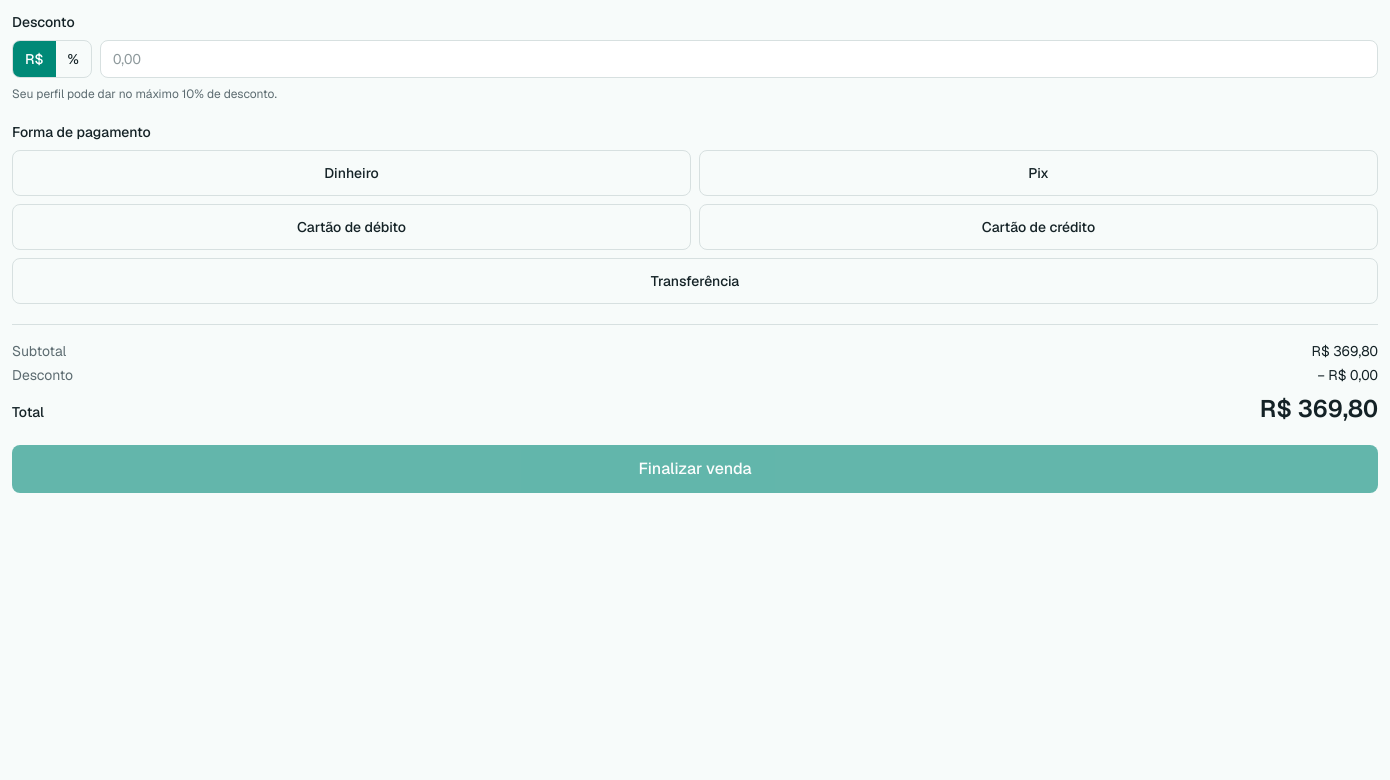
Test: PdvPagamento › calcula o troco em dinheiro e bloqueia valor recebido menor que o total
Click the radio button labelled "Dinheiro" at (352, 173), box [12,150,691,196]
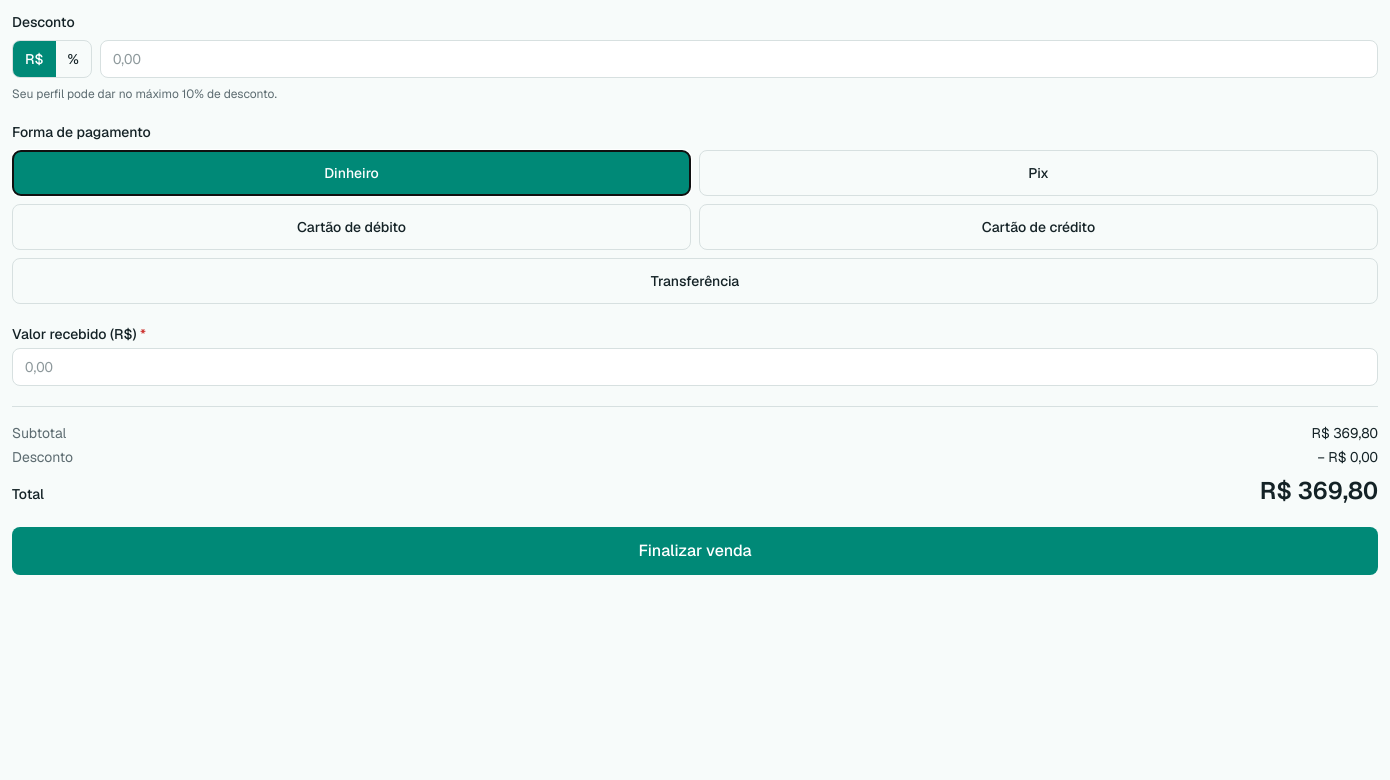
Type "300,00" into the field labelled "Valor recebido (R$) *" at (695, 367), box [12,348,1378,386]
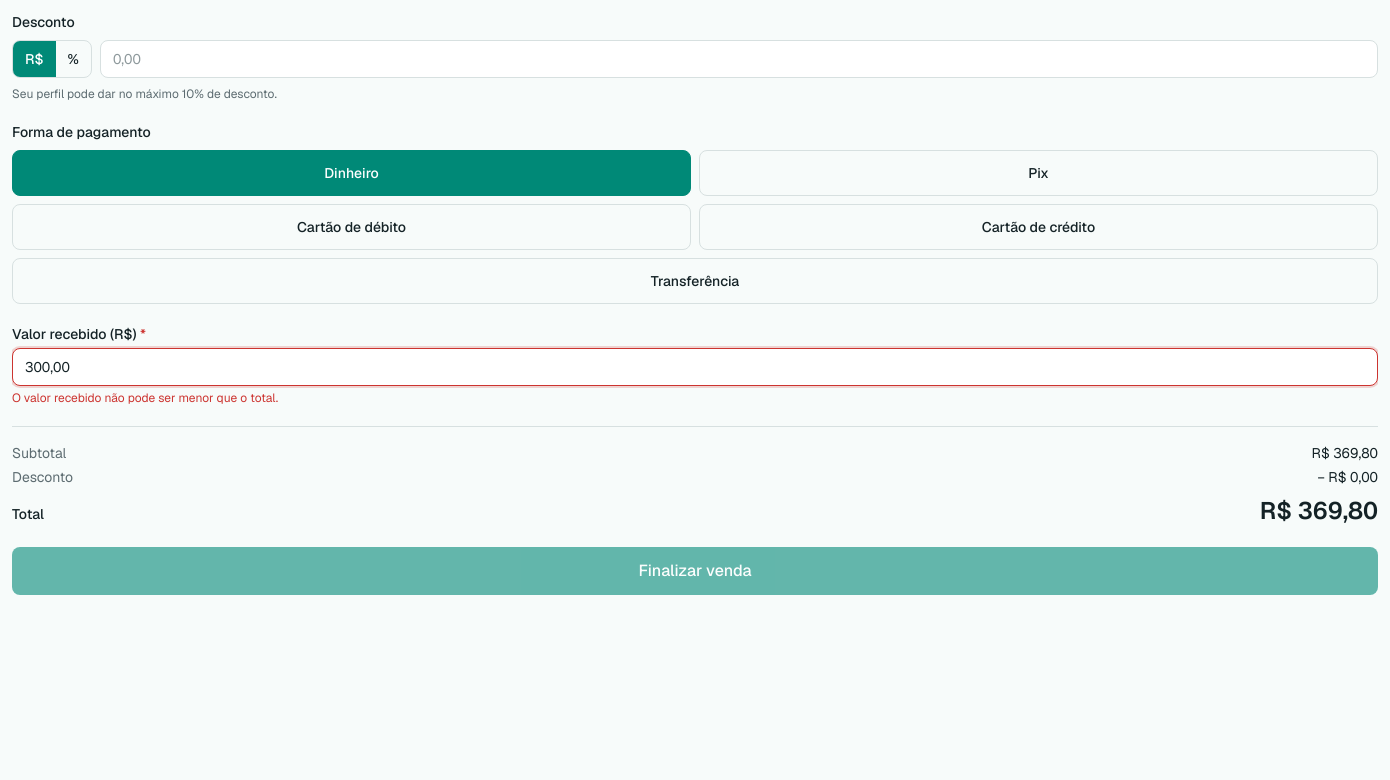
Expected: the text "O valor recebido não pode ser menor que o total." is shown, [12,390,278,406]
Expected: the button "Finalizar venda" is disabled, [12,547,1378,595]
Replace the text in the field labelled "Valor recebido (R$) *" with "400,00" at (695, 367), box [12,348,1378,386]
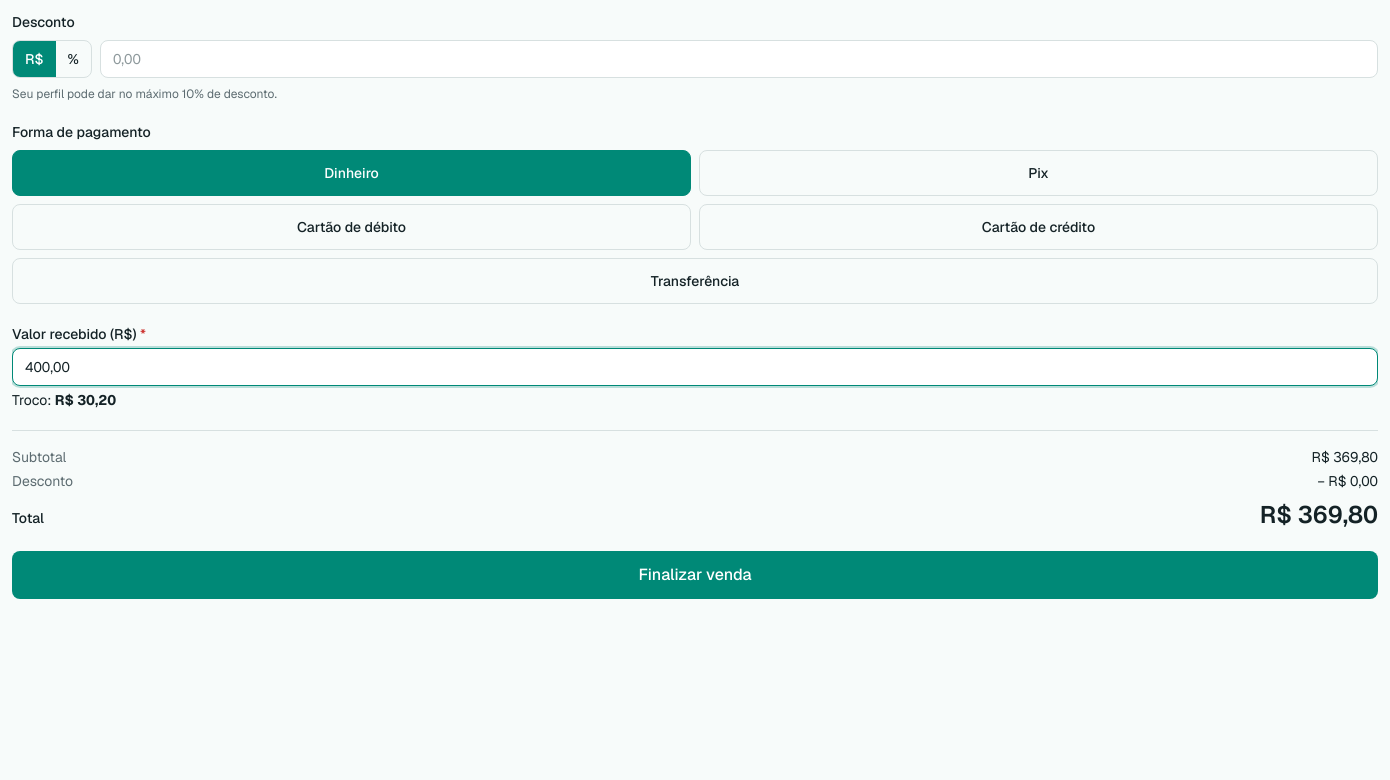
Expected: the button "Finalizar venda" is enabled, [12,551,1378,599]
Expected: the text with test id "troco" shows "30,20", [55,391,116,409]
